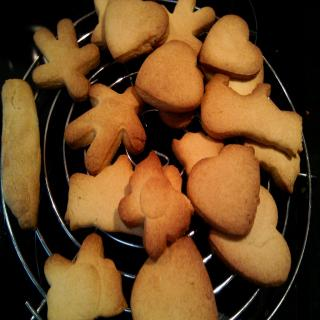Cookie: (0, 0, 303, 320), (190, 144, 261, 240)
